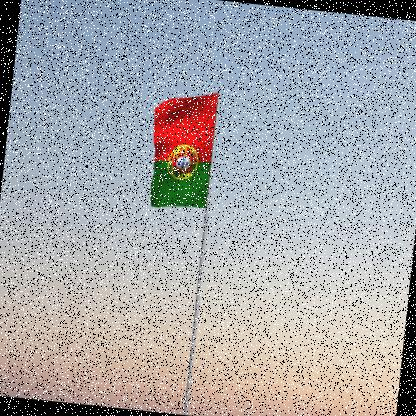pt: (144, 88, 218, 215)
